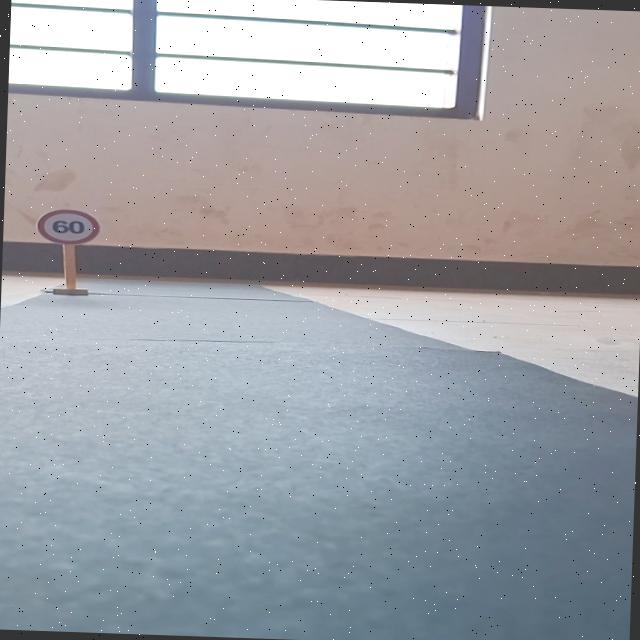Speed60: (36, 207, 101, 244)
